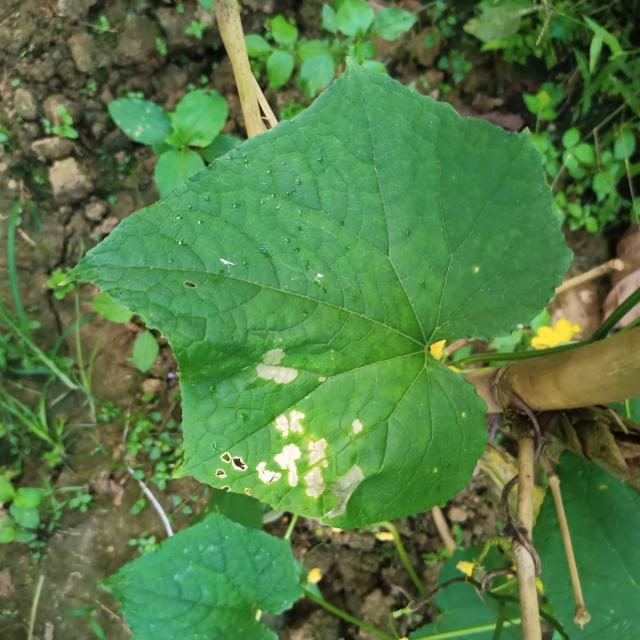disease_cucumber: (215, 406, 369, 520), (256, 344, 300, 387)
